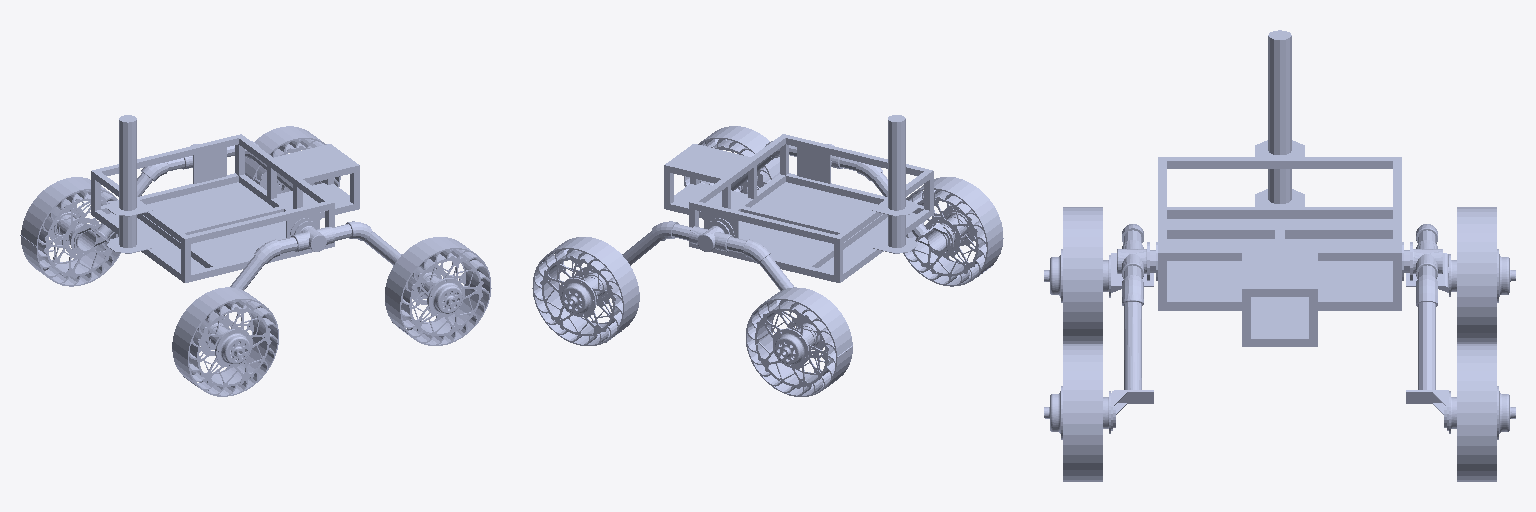
robot.urdf — rover_21_description:
<?xml version="1.0" encoding="utf-8"?>
<!-- This URDF was automatically created by SolidWorks to URDF Exporter! Originally created by [author] ([email redacted]) 
     Commit Version: 1.6.0-1-g15f4949  Build Version: 1.6.7594.29634
     For more information, please see http://wiki.ros.org/sw_urdf_exporter -->
<robot
  name="rover_21_description">
  <link
    name="base_link">
    <inertial>
      <origin
        xyz="-0.0597176388871317 -2.21514952908342E-09 0.0432014783103323"
        rpy="0 0 0" />
      <mass
        value="7.6451763291456" />
      <inertia
        ixx="0.168439329083486"
        ixy="-1.08629887891622E-05"
        ixz="0.0407415251600241"
        iyy="0.481545696094267"
        iyz="5.75369711790317E-08"
        izz="0.541121238422161" />
    </inertial>
    <visual>
      <origin
        xyz="0 0 0"
        rpy="0 0 0" />
      <geometry>
        <mesh
          filename="package://rover_21_description/meshes/base_link.STL" />
      </geometry>
      <material
        name="">
        <color
          rgba="0.792156862745098 0.819607843137255 0.933333333333333 1" />
      </material>
    </visual>
    <collision>
      <origin
        xyz="0 0 0"
        rpy="0 0 0" />
      <geometry>
        <mesh
          filename="package://rover_21_description/meshes/base_link.STL" />
      </geometry>
    </collision>
  </link>
  <link
    name="left_front_link">
    <inertial>
      <origin
        xyz="-0.0755097276903981 0.000138247434987249 -4.79303458726932E-05"
        rpy="0 0 0" />
      <mass
        value="1.15731252096219" />
      <inertia
        ixx="0.0178302511822237"
        ixy="-2.09274363582099E-06"
        ixz="1.4204407926078E-06"
        iyy="0.00968270185063617"
        iyz="1.80036299754407E-06"
        izz="0.00969344166305502" />
    </inertial>
    <visual>
      <origin
        xyz="0 0 0"
        rpy="0 0 0" />
      <geometry>
        <mesh
          filename="package://rover_21_description/meshes/left_front_link.STL" />
      </geometry>
      <material
        name="">
        <color
          rgba="0.792156862745098 0.819607843137255 0.933333333333333 1" />
      </material>
    </visual>
    <collision>
      <origin
        xyz="0 0 0"
        rpy="0 0 0" />
      <geometry>
        <mesh
          filename="package://rover_21_description/meshes/left_front_link.STL" />
      </geometry>
    </collision>
  </link>
  <joint
    name="left_front_joint"
    type="continuous">
    <origin
      xyz="0.353294657130572 0.3625 -0.154224967578181"
      rpy="-2.0786047357804 0 -1.5707963267949" />
    <parent
      link="base_link" />
    <child
      link="left_front_link" />
    <axis
      xyz="1 0 0" />
  </joint>
  <link
    name="right_front_link">
    <inertial>
      <origin
        xyz="-2.84518155616587E-05 0.00014352757758429 -0.0754466264782706"
        rpy="0 0 0" />
      <mass
        value="1.15731252096219" />
      <inertia
        ixx="0.00969372906416445"
        ixy="2.68465121779082E-07"
        ixz="-1.11897159373537E-06"
        iyy="0.00968241444952688"
        iyz="2.26828802029305E-06"
        izz="0.0178302511822238" />
    </inertial>
    <visual>
      <origin
        xyz="0 0 0"
        rpy="0 0 0" />
      <geometry>
        <mesh
          filename="package://rover_21_description/meshes/right_front_link.STL" />
      </geometry>
      <material
        name="">
        <color
          rgba="0.792156862745098 0.819607843137255 0.933333333333333 1" />
      </material>
    </visual>
    <collision>
      <origin
        xyz="0 0 0"
        rpy="0 0 0" />
      <geometry>
        <mesh
          filename="package://rover_21_description/meshes/right_front_link.STL" />
      </geometry>
    </collision>
  </link>
  <joint
    name="right_front_joint"
    type="continuous">
    <origin
      xyz="0.353351994708173 -0.3625 -0.154125745497893"
      rpy="-1.5707963267949 0.966931818667219 0" />
    <parent
      link="base_link" />
    <child
      link="right_front_link" />
    <axis
      xyz="0 0 1" />
  </joint>
  <link
    name="left_rear_link">
    <inertial>
      <origin
        xyz="-2.8451815541175E-05 0.000143527577594393 0.0755097276903982"
        rpy="0 0 0" />
      <mass
        value="1.15731252096219" />
      <inertia
        ixx="0.00969372906416443"
        ixy="2.6846512179334E-07"
        ixz="-1.11897159373079E-06"
        iyy="0.00968241444952685"
        iyz="2.26828802029616E-06"
        izz="0.0178302511822237" />
    </inertial>
    <visual>
      <origin
        xyz="0 0 0"
        rpy="0 0 0" />
      <geometry>
        <mesh
          filename="package://rover_21_description/meshes/left_rear_link.STL" />
      </geometry>
      <material
        name="">
        <color
          rgba="0.792156862745098 0.819607843137255 0.933333333333333 1" />
      </material>
    </visual>
    <collision>
      <origin
        xyz="0 0 0"
        rpy="0 0 0" />
      <geometry>
        <mesh
          filename="package://rover_21_description/meshes/left_rear_link.STL" />
      </geometry>
    </collision>
  </link>
  <joint
    name="left_rear_joint"
    type="continuous">
    <origin
      xyz="-0.355493804489844 0.3625 -0.150372421028072"
      rpy="1.5707963267949 1.53320191104535 3.14159265358979" />
    <parent
      link="base_link" />
    <child
      link="left_rear_link" />
    <axis
      xyz="0 0 1" />
  </joint>
  <link
    name="right_rear_link">
    <inertial>
      <origin
        xyz="-2.84515837579713E-05 0.000143527620351219 -0.0754466264782706"
        rpy="0 0 0" />
      <mass
        value="1.15731252096219" />
      <inertia
        ixx="0.00969372911382251"
        ixy="2.68439980844609E-07"
        ixz="-1.11897159373792E-06"
        iyy="0.00968241439986873"
        iyz="2.26828802029381E-06"
        izz="0.0178302511822237" />
    </inertial>
    <visual>
      <origin
        xyz="0 0 0"
        rpy="0 0 0" />
      <geometry>
        <mesh
          filename="package://rover_21_description/meshes/right_rear_link.STL" />
      </geometry>
      <material
        name="">
        <color
          rgba="0.792156862745098 0.819607843137255 0.933333333333333 1" />
      </material>
    </visual>
    <collision>
      <origin
        xyz="0 0 0"
        rpy="0 0 0" />
      <geometry>
        <mesh
          filename="package://rover_21_description/meshes/right_rear_link.STL" />
      </geometry>
    </collision>
  </link>
  <joint
    name="right_rear_joint"
    type="continuous">
    <origin
      xyz="-0.353922288632598 -0.3625 -0.150480055091568"
      rpy="-1.5707963267949 0.867399709619945 0" />
    <parent
      link="base_link" />
    <child
      link="right_rear_link" />
    <axis
      xyz="0 0 1" />
  </joint>
	
  <transmission name="left_front_trans" type="SimpleTransmission">
    <type>transmission_interface/SimpleTransmission</type>
    <actuator name="left_front_motor">
      <mechanicalReduction>1</mechanicalReduction>
    </actuator>
    <joint name="left_front_joint">
      <hardwareInterface>hardware_interface/VelocityJointInterface</hardwareInterface>
    </joint>
  </transmission>

  <transmission name="right_front_trans" type="SimpleTransmission">
    <type>transmission_interface/SimpleTransmission</type>
    <actuator name="right_front_motor">
      <mechanicalReduction>1</mechanicalReduction>
    </actuator>
    <joint name="right_front_joint">
      <hardwareInterface>hardware_interface/VelocityJointInterface</hardwareInterface>
    </joint>
  </transmission>

  <transmission name="left_rear_trans" type="SimpleTransmission">
    <type>transmission_interface/SimpleTransmission</type>
    <actuator name="left_rear_motor">
      <mechanicalReduction>1</mechanicalReduction>
    </actuator>
    <joint name="left_rear_joint">
      <hardwareInterface>hardware_interface/VelocityJointInterface</hardwareInterface>
    </joint>
  </transmission>

  <transmission name="right_rear_trans" type="SimpleTransmission">
    <type>transmission_interface/SimpleTransmission</type>
    <actuator name="right_rear_motor">
      <mechanicalReduction>1</mechanicalReduction>
    </actuator>
    <joint name="right_rear_joint">
      <hardwareInterface>hardware_interface/VelocityJointInterface</hardwareInterface>
    </joint>
  </transmission>

  <gazebo>
    <plugin name="gazebo_ros_control" filename="libgazebo_ros_control.so">
      <robotSimType>gazebo_ros_control/DefaultRobotHWSim</robotSimType>
      <legacyModeNS>true</legacyModeNS>
    </plugin>
  </gazebo>

   <gazebo>
    <plugin name="imu_controller" filename="libhector_gazebo_ros_imu.so">
      <updateRate>50.0</updateRate>
      <bodyName>base_link</bodyName>
      <topicName>/imu/data</topicName>
      <accelDrift>0.005 0.005 0.005</accelDrift>
      <accelGaussianNoise>0.005 0.005 0.005</accelGaussianNoise>
      <rateDrift>0.005 0.005 0.005 </rateDrift>
      <rateGaussianNoise>0.005 0.005 0.005 </rateGaussianNoise>
      <headingDrift>0.005</headingDrift>[ERROR] [1555346159.311804930, 0.098000000]: 
      <headingGaussianNoise>0.005</headingGaussianNoise>
    </plugin>
  </gazebo>

  <gazebo>
    <plugin name="gps_controller" filename="libhector_gazebo_ros_gps.so">
      <updateRate>40</updateRate>
      <bodyName>base_link</bodyName>
      <frameId>base_link</frameId>
      <topicName>gps/fix</topicName>
      <velocityTopicName>navsat/vel</velocityTopicName>
      <referenceLatitude>41.1052670854</referenceLatitude>
      <referenceLongitude>29.023378124</referenceLongitude>
      <referenceHeading>0</referenceHeading>
      <referenceAltitude>0</referenceAltitude>
      <drift>0.0001 0.0001 0.0001</drift>
    </plugin>
  </gazebo>
</robot>

--- Render facts (derived) ---
Views: 3 orthographic renders of the robot side by side, from view 1: azimuth 30°, elevation 25°; view 2: azimuth 150°, elevation 25°; view 3: azimuth 270°, elevation 25°.
Model rover_21_description with 5 links and 4 joints (4 continuous), rooted at base_link, posed every joint at zero.
Links seen in each view (by area): view 1: base_link, right_front_link, right_rear_link, left_rear_link, left_front_link; view 2: base_link, left_rear_link, left_front_link, right_rear_link, right_front_link; view 3: base_link, left_front_link, right_front_link, right_rear_link, left_rear_link.
Boxes of the visible links, x1,y1,x2,y2 form: base_link: [74, 115, 401, 315]; right_front_link: [385, 237, 491, 345]; right_rear_link: [172, 287, 278, 396]; left_rear_link: [20, 177, 120, 286]; left_front_link: [245, 126, 340, 219]; base_link: [622, 115, 950, 290]; left_rear_link: [746, 287, 852, 396]; left_front_link: [532, 237, 639, 345]; right_rear_link: [903, 177, 1003, 286]; right_front_link: [684, 126, 779, 219]; base_link: [1111, 30, 1448, 430]; left_front_link: [1444, 344, 1515, 481]; right_front_link: [1044, 344, 1115, 481]; right_rear_link: [1044, 207, 1110, 343]; left_rear_link: [1448, 207, 1515, 343].
Size in the robot's own frame: 1.01 by 1.04 by 0.7087 metres.
Meshes: 5 distinct files referenced, 5 mesh visuals loaded (5 binary STL).
